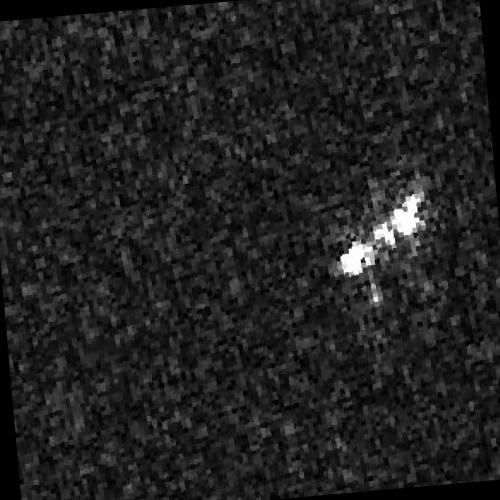ship: (339, 188, 421, 278)
